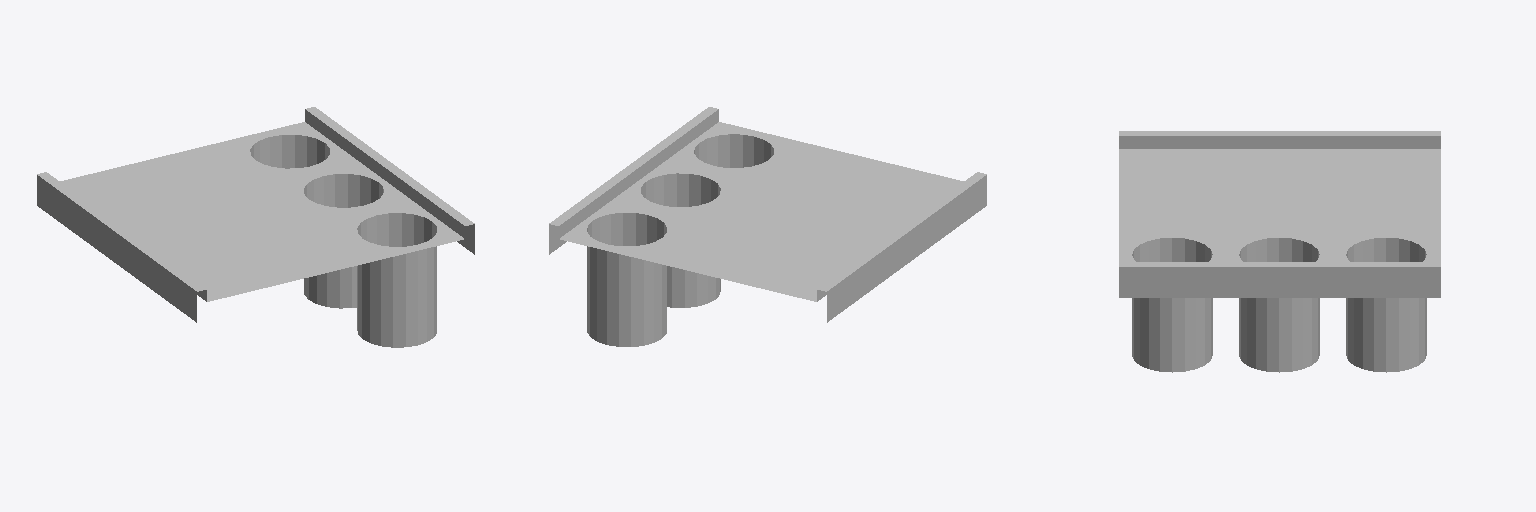
File: whackMole_A_3x3.obj
The picture shows the model from 3 angles: view 1: azimuth 30°, elevation 25°; view 2: azimuth 150°, elevation 25°; view 3: azimuth 270°, elevation 25°; orthographic projection.
Visible parts, largest first — view 1: whackMole_A_3x3; view 2: whackMole_A_3x3; view 3: whackMole_A_3x3.
Boxes of the visible parts, <box> form: whackMole_A_3x3: <box>37,107,474,347</box>; whackMole_A_3x3: <box>549,107,986,346</box>; whackMole_A_3x3: <box>1119,131,1440,372</box>.
Size of the model in its own units: 3 by 1.17 by 3.